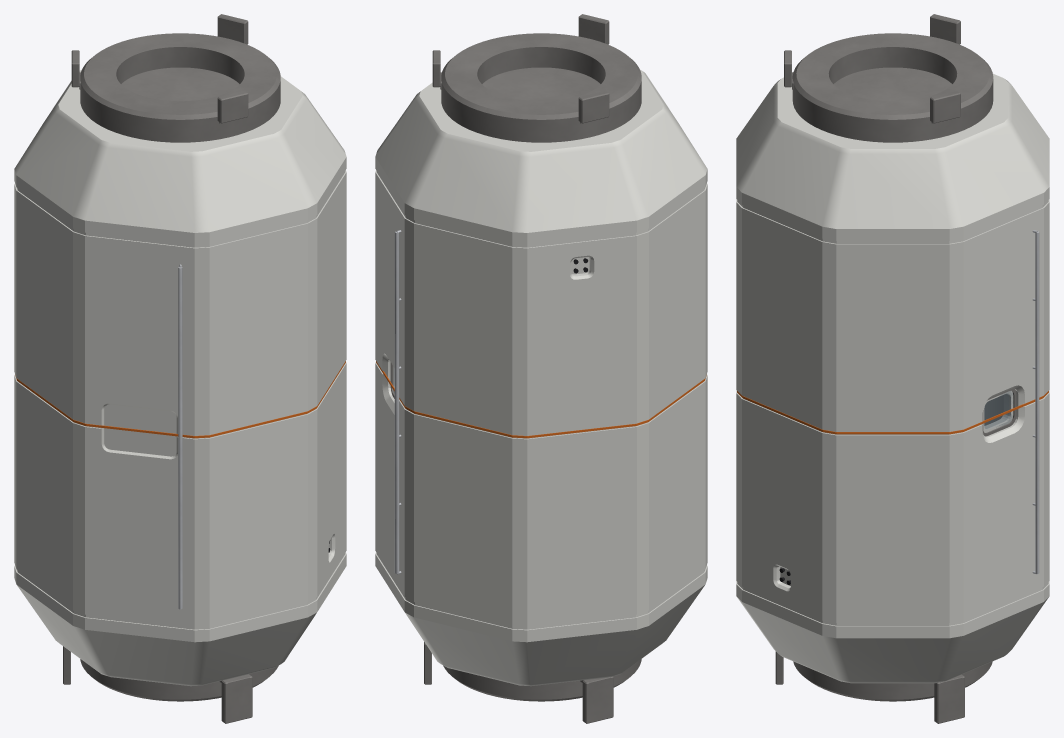
The model's file is ax_station_02_compact_hab.glb.
The picture shows the model from 3 angles, left to right: view 1: azimuth 30°, elevation 25°; view 2: azimuth 150°, elevation 25°; view 3: azimuth 270°, elevation 25°; orthographic projection.
Visible parts, largest first — view 1: pressure_hull, port_top, hatch_door_2, port_bottom, port_top_petals, handrails, port_bottom_petals, orange_stripes; view 2: pressure_hull, port_top, hatch_door_2, port_bottom, handrails, port_top_petals, port_bottom_petals, orange_stripes; view 3: pressure_hull, port_top, hatch_door_2, port_bottom, port_top_petals, handrails, port_bottom_petals, orange_stripes, window_glass.
Part boxes in pixels (x1=…): pressure_hull: x1=14, y1=69, x2=346, y2=686; port_top: x1=80, y1=33, x2=280, y2=142; hatch_door_2: x1=121, y1=67, x2=239, y2=101; port_bottom: x1=80, y1=659, x2=278, y2=701; port_top_petals: x1=71, y1=14, x2=248, y2=123; handrails: x1=178, y1=264, x2=182, y2=609; port_bottom_petals: x1=63, y1=646, x2=252, y2=723; orange_stripes: x1=15, y1=361, x2=345, y2=438; pressure_hull: x1=375, y1=69, x2=707, y2=686; port_top: x1=441, y1=33, x2=641, y2=142; hatch_door_2: x1=482, y1=67, x2=600, y2=101; port_bottom: x1=443, y1=659, x2=641, y2=701; handrails: x1=394, y1=230, x2=401, y2=574; port_top_petals: x1=432, y1=14, x2=609, y2=123; port_bottom_petals: x1=424, y1=642, x2=613, y2=723; orange_stripes: x1=376, y1=361, x2=706, y2=438; pressure_hull: x1=736, y1=73, x2=1049, y2=683; port_top: x1=792, y1=33, x2=993, y2=142; hatch_door_2: x1=833, y1=67, x2=952, y2=101; port_bottom: x1=793, y1=661, x2=992, y2=701; port_top_petals: x1=784, y1=14, x2=960, y2=123; handrails: x1=1032, y1=230, x2=1039, y2=574; port_bottom_petals: x1=775, y1=651, x2=964, y2=723; orange_stripes: x1=737, y1=391, x2=1048, y2=434; window_glass: x1=984, y1=391, x2=1012, y2=429.
Size of the model in its own units: 2.5 by 5.47 by 2.5.
6 materials, 2 textured.
